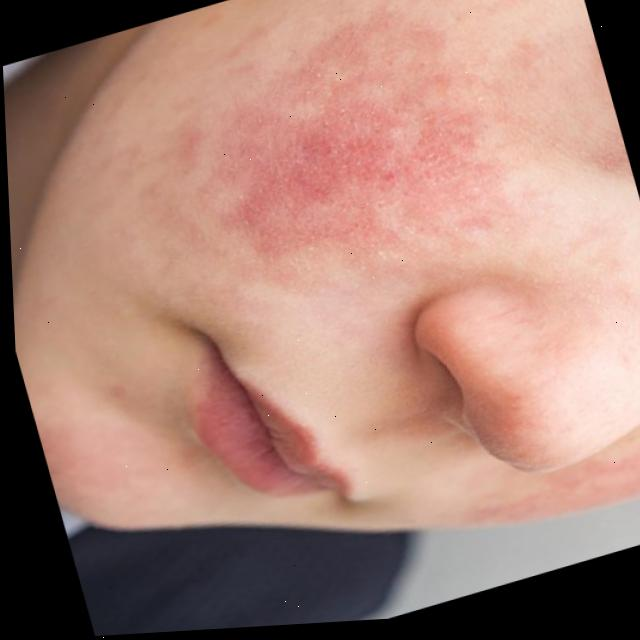Rosacea: (210, 32, 482, 266)
